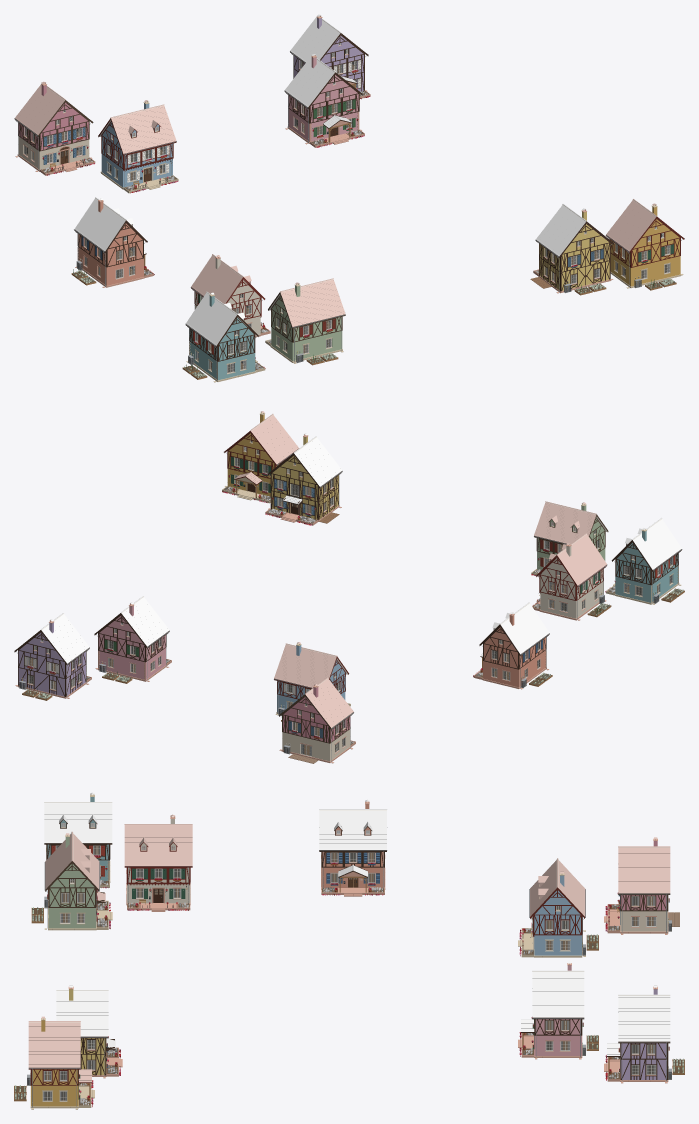
Rendered from village_houses.glb.
3 renders of one model, top to bottom at view 1: azimuth 30°, elevation 25°; view 2: azimuth 150°, elevation 25°; view 3: azimuth 270°, elevation 25°, orthographic. The views are drawn at different scales.
Parts seen in each view (by area): view 1: houseshell__house_2, houseshell__house_4, houseshell__house_3, houseshell__house_6, houseshell__house_1, houseshell__house_9, houseshell__house_5, houseshell__house_8, houseshell__house_7, houseshell__house_10, housedetail__house_9, housedetail__house_2 (+6 smaller); view 2: houseshell__house_7, houseshell__house_9, houseshell__house_3, houseshell__house_1, houseshell__house_10, houseshell__house_5, houseshell__house_8, houseshell__house_6, houseshell__house_2, houseshell__house_4, housedetail__house_3, housedetail__house_6 (+6 smaller); view 3: houseshell__house_5, houseshell__house_10, houseshell__house_7, houseshell__house_6, houseshell__house_1, houseshell__house_9, houseshell__house_2, houseshell__house_4, houseshell__house_8, houseshell__house_3, housedetail__house_10, housedetail__house_5 (+8 smaller).
Part boxes in pixels (bbox=[...]): houseshell__house_2: bbox=[98, 100, 176, 190]; houseshell__house_4: bbox=[268, 278, 345, 362]; houseshell__house_3: bbox=[535, 204, 613, 293]; houseshell__house_6: bbox=[606, 199, 684, 288]; houseshell__house_1: bbox=[284, 54, 362, 144]; houseshell__house_9: bbox=[14, 81, 92, 172]; houseshell__house_5: bbox=[74, 197, 147, 287]; houseshell__house_8: bbox=[185, 291, 258, 381]; houseshell__house_7: bbox=[290, 14, 368, 91]; houseshell__house_10: bbox=[191, 254, 264, 337]; housedetail__house_9: bbox=[14, 110, 95, 175]; housedetail__house_2: bbox=[100, 127, 178, 193]; houseshell__house_7: bbox=[14, 613, 89, 698]; houseshell__house_9: bbox=[279, 677, 353, 762]; houseshell__house_3: bbox=[267, 433, 342, 522]; houseshell__house_1: bbox=[94, 596, 169, 681]; houseshell__house_10: bbox=[536, 533, 606, 620]; houseshell__house_5: bbox=[479, 602, 549, 688]; houseshell__house_8: bbox=[612, 518, 681, 604]; houseshell__house_6: bbox=[224, 411, 299, 500]; houseshell__house_2: bbox=[274, 642, 348, 713]; houseshell__house_4: bbox=[534, 501, 608, 569]; housedetail__house_3: bbox=[265, 463, 342, 525]; housedetail__house_6: bbox=[222, 440, 293, 503]; houseshell__house_5: bbox=[319, 799, 387, 896]; houseshell__house_10: bbox=[124, 814, 192, 911]; houseshell__house_7: bbox=[604, 985, 670, 1081]; houseshell__house_6: bbox=[28, 1016, 94, 1108]; houseshell__house_1: bbox=[518, 961, 584, 1057]; houseshell__house_9: bbox=[604, 837, 674, 933]; houseshell__house_2: bbox=[518, 858, 585, 957]; houseshell__house_4: bbox=[45, 831, 112, 930]; houseshell__house_8: bbox=[44, 792, 112, 882]; houseshell__house_3: bbox=[56, 985, 122, 1076]; housedetail__house_10: bbox=[125, 846, 192, 910]; housedetail__house_5: bbox=[319, 827, 387, 895].
Size of the model in its own units: 106 by 15.68 by 119.
